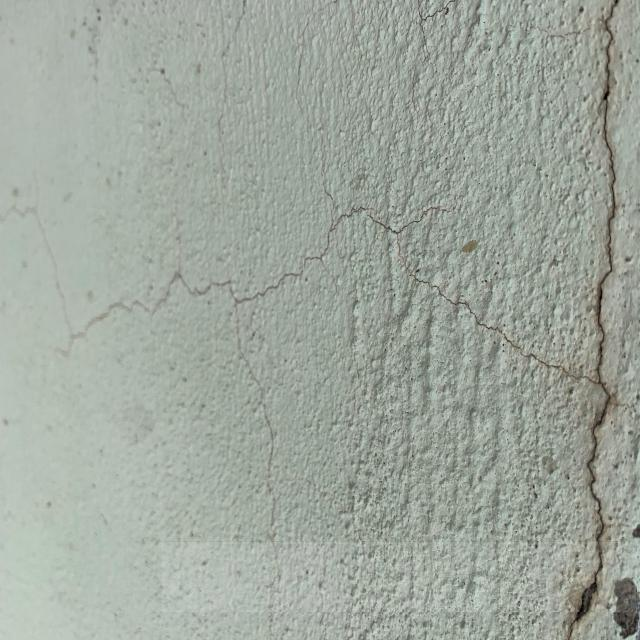diagonal crack: (133, 66, 199, 146)
multi-branched crack: (0, 4, 640, 640)
vertical crack: (568, 1, 640, 640), (201, 0, 271, 198)
